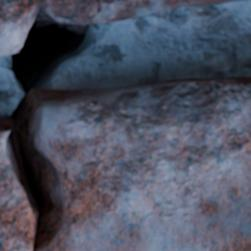broken_brick: (0, 76, 250, 250), (0, 0, 250, 56), (0, 116, 11, 129)
crack: (0, 2, 99, 248)
